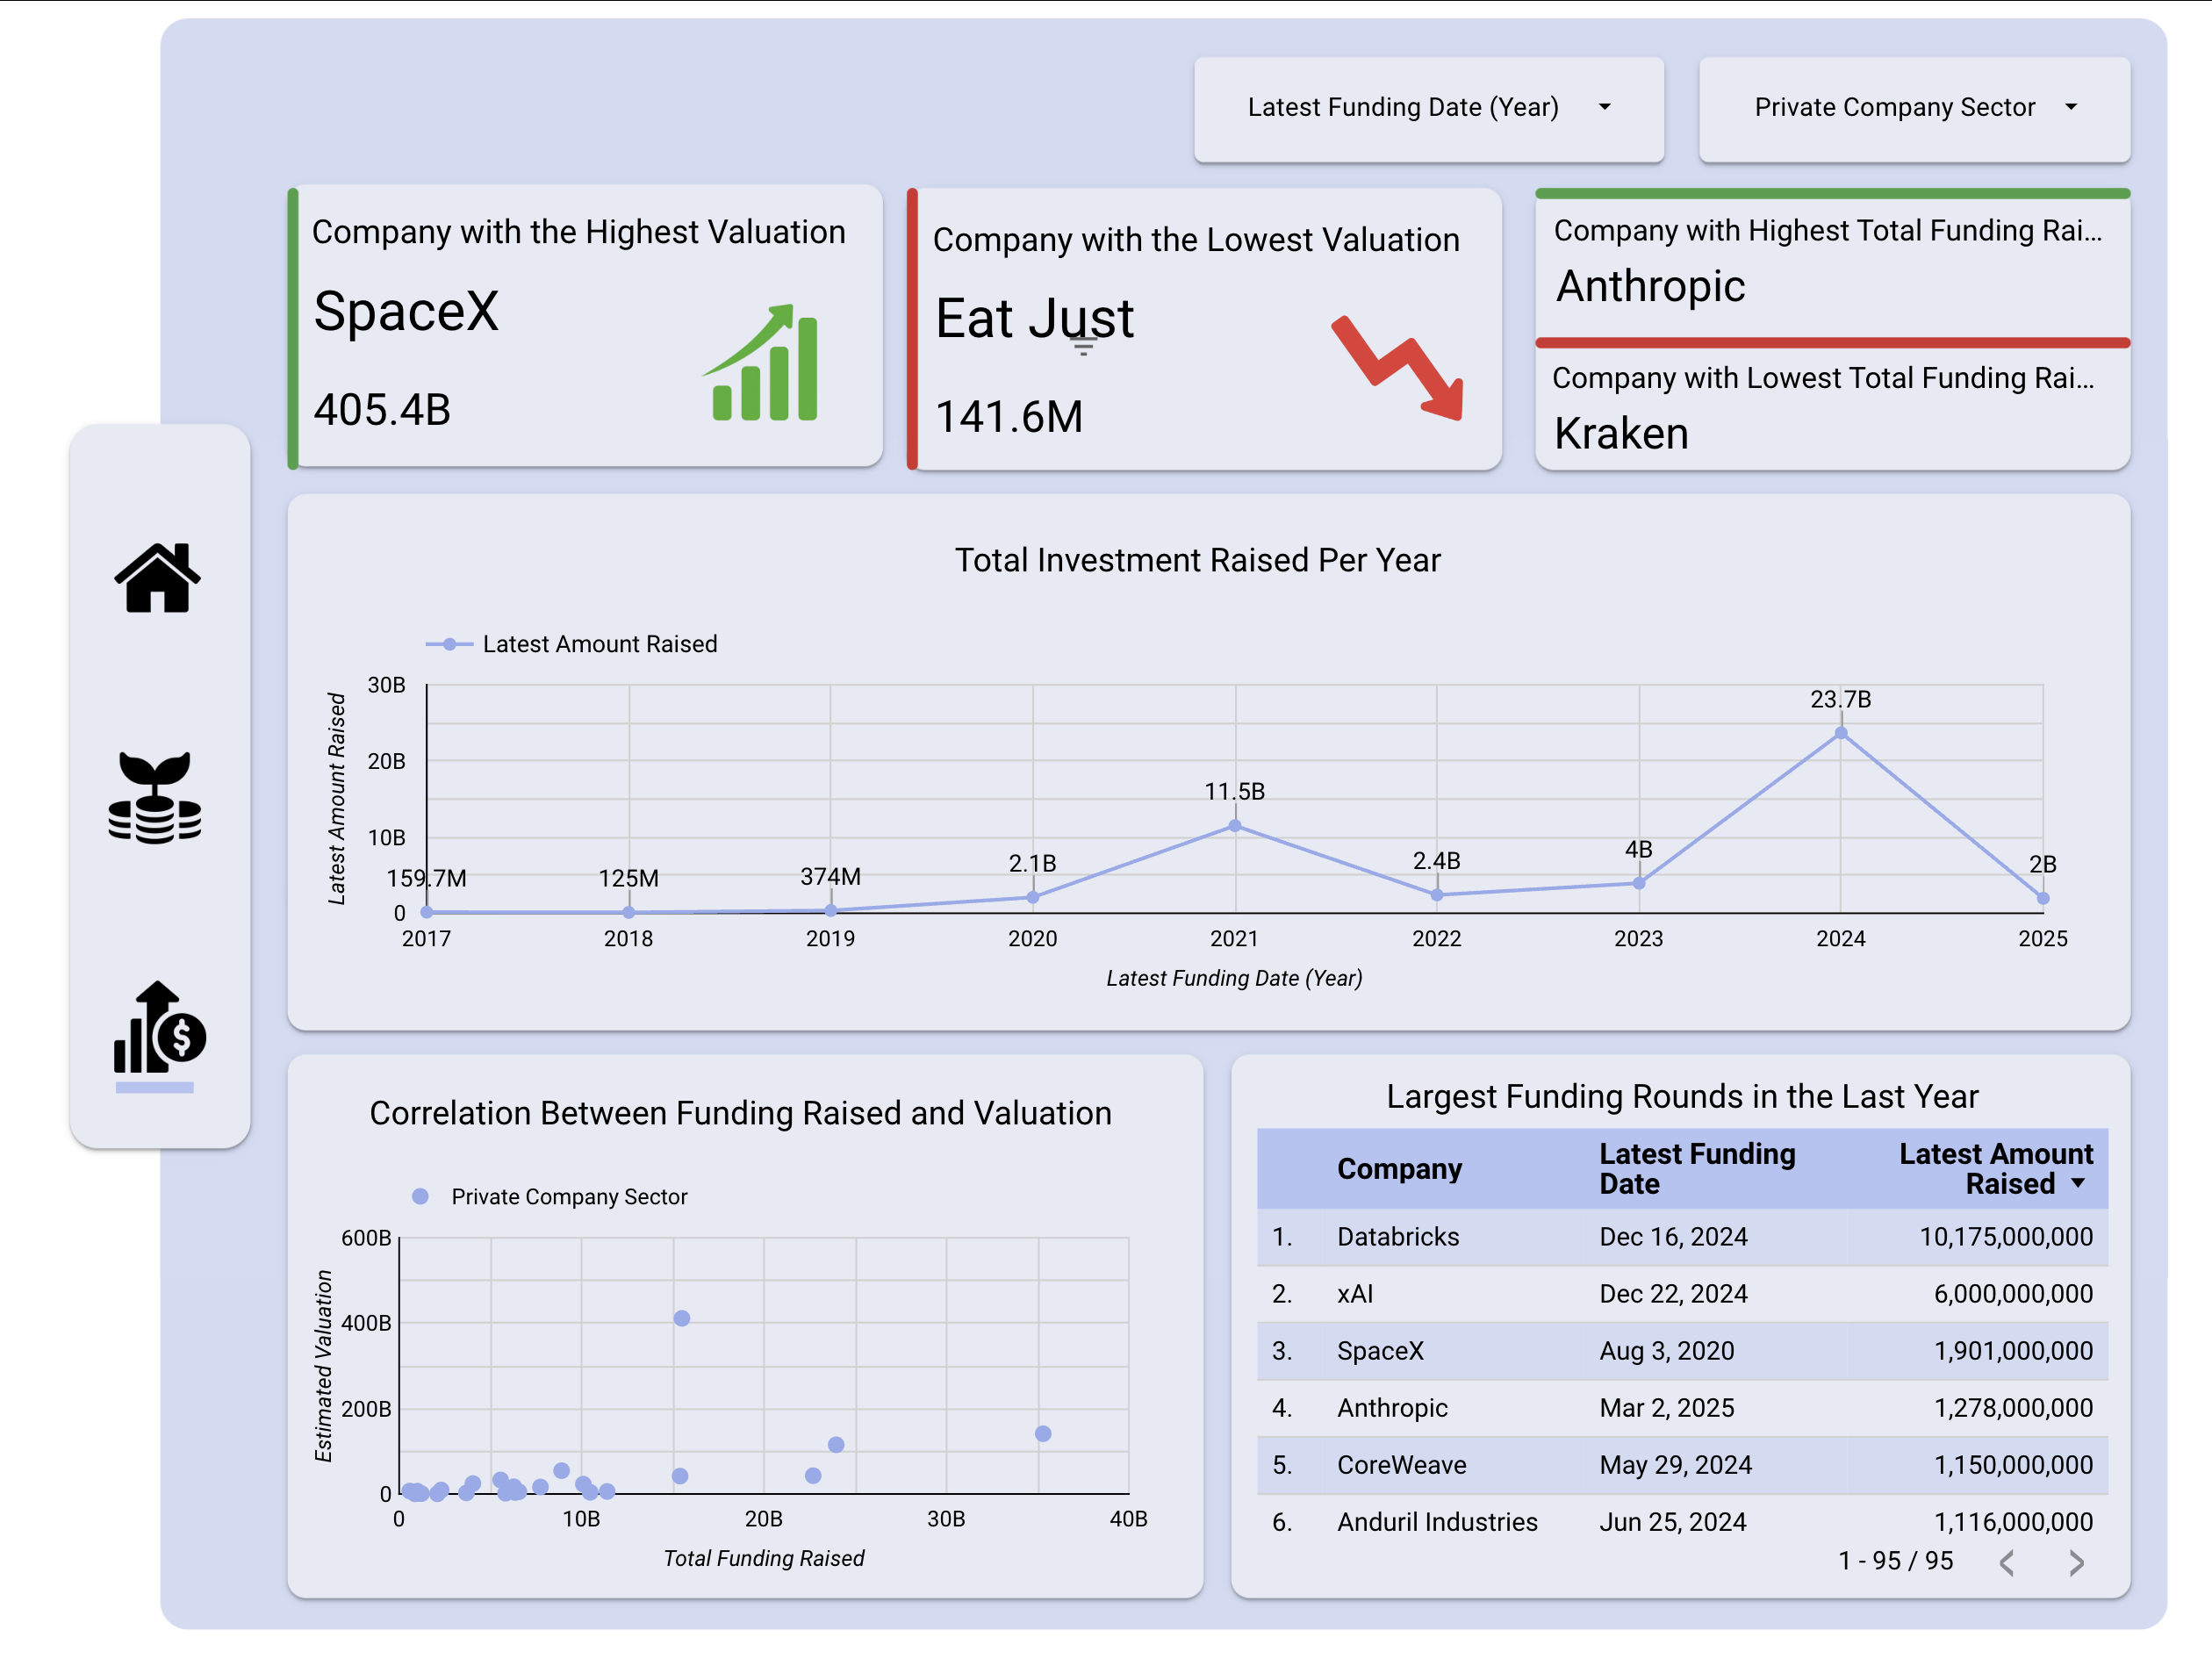

What the dashboard file says about the page in this screenshot:
{"tool":"powerbi","page":{"name":"Page 3","canvas":[1280,720],"ordinal":2},"visuals":[{"type":"shape","box":[80.7,17.1,1182.5,687.2],"z":0},{"type":"shape","box":[33,205.4,95.4,362],"z":1000},{"type":"shape","box":[150.4,105.2,339.9,137],"z":2000},{"type":"shape","box":[529.5,105.2,339.9,137],"z":3000},{"type":"shape","box":[890.6,105.7,354,137.2],"z":4000},{"type":"shape","box":[985.3,27.4,259.3,64.5],"z":5000},{"type":"shape","box":[734.1,28.8,236,63.1],"z":6000},{"type":"shape","box":[150.9,260.7,1093.7,201.7],"z":7000},{"type":"shape","box":[699.8,472,544.8,219.6],"z":8000},{"type":"shape","box":[150.4,472,539.3,220.1],"z":9000},{"type":"shape","box":[150.4,105.2,12.2,137],"z":10000},{"type":"shape","box":[529.5,105.2,12.2,137],"z":11000},{"type":"lineChart","title":"Total Investment Raised Per Year","fields":{"Category":["cleaned_private_companies.Latest Funding Date.Variation.Date Hierarchy.Year"],"Y":["Sum(cleaned_private_companies.Latest Amount Raised)"]},"box":[163.3,271.7,1069,185.2],"z":12000},{"type":"tableEx","title":"Largest Funding Rounds in the Last Year","fields":{"Values":["cleaned_private_companies.Company","cleaned_private_companies.Latest Funding Date","cleaned_private_companies.Latest Amount Raised"]},"box":[699.8,483,535.2,203.1],"z":13000},{"type":"scatterChart","title":"Correlation Between FUnding Raised and Valuation","fields":{"X":["cleaned_private_companies.Total Funding Raised"],"Y":["cleaned_private_companies.Estimated Valuation"]},"box":[163.3,484.4,516,196.2],"z":14000},{"type":"card","title":"Company with the Highest Valuation","fields":{"Values":["cleaned_private_companies.HighestValuation"]},"box":[172.9,138.6,107,42.5],"z":15000},{"type":"card","title":"Company with the Lowest Valuation","fields":{"Values":["cleaned_private_companies.LowestValuation"]},"box":[550.3,138.6,111.1,53.5],"z":16000},{"type":"card","title":"Sector with Highest 52-Week Growth","fields":{"Values":["cleaned_private_companies.AmountHighestValuation"]},"box":[164.7,188,123.5,50.8],"z":17000},{"type":"card","title":"Sector with Highest 52-Week Growth","fields":{"Values":["cleaned_private_companies.AmountLowestValuation"]},"box":[542,197.6,109.8,38.4],"z":18000},{"type":"card","title":"Company with the Highest Valuation","fields":{"Values":["cleaned_private_companies.HighestTotalFunding"]},"box":[890.6,138.6,133.1,35.7],"z":19000},{"type":"card","title":"Company with the Lowest Valuation","fields":{"Values":["cleaned_private_companies.LowestTotalFunding"]},"box":[890.6,205.8,105.7,30.2],"z":20000},{"type":"slicer","fields":{"Values":["cleaned_private_companies.Private Company Sector"]},"box":[986.6,28.8,258,64.5],"z":21000},{"type":"slicer","fields":{"Values":["cleaned_private_companies.Latest Funding Date.Variation.Date Hierarchy.Year"]},"box":[734.1,27.4,233.3,64.5],"z":22000},{"type":"image","box":[385.6,156.4,105.7,86.4],"z":23000},{"type":"image","box":[782.2,171.5,71.4,67.2],"z":24000},{"type":"shape","box":[890.6,171.5,354,17.8],"z":25000},{"type":"shape","box":[898.8,97.4,337.6,23.3],"z":26000},{"type":"image","box":[48,251.1,65.9,67.2],"z":27000},{"type":"image","box":[39.8,371.9,74.1,60.4],"z":28000},{"type":"image","box":[48,472,65.9,64.5],"z":29000},{"type":"shape","box":[54.9,529.7,43.9,12.3],"z":30000},{"type":"textbox","box":[172.9,109.8,318.4,38.4],"z":31000},{"type":"textbox","box":[550.3,109.8,319.7,38.4],"z":32000},{"type":"textbox","box":[898.8,109.8,337.6,38.4],"z":33000},{"type":"textbox","box":[898.8,181.1,336.2,32.9],"z":34000}]}

Visuals, with their boxes on the page's 1280x720 design canvas (x1, y1, x2, y2). These are canvas units, not pixel positions in the 2212x1659 screenshot, which may show the page scaled, cropped or inside an application window:
shape: <region>81, 17, 1263, 704</region>
shape: <region>33, 205, 128, 567</region>
shape: <region>150, 105, 490, 242</region>
shape: <region>530, 105, 869, 242</region>
shape: <region>891, 106, 1245, 243</region>
shape: <region>985, 27, 1245, 92</region>
shape: <region>734, 29, 970, 92</region>
shape: <region>151, 261, 1245, 462</region>
shape: <region>700, 472, 1245, 692</region>
shape: <region>150, 472, 690, 692</region>
shape: <region>150, 105, 163, 242</region>
shape: <region>530, 105, 542, 242</region>
"Total Investment Raised Per Year" lineChart: <region>163, 272, 1232, 457</region>
"Largest Funding Rounds in the Last Year" tableEx: <region>700, 483, 1235, 686</region>
"Correlation Between FUnding Raised and Valuation" scatterChart: <region>163, 484, 679, 681</region>
"Company with the Highest Valuation" card: <region>173, 139, 280, 181</region>
"Company with the Lowest Valuation" card: <region>550, 139, 661, 192</region>
"Sector with Highest 52-Week Growth" card: <region>165, 188, 288, 239</region>
"Sector with Highest 52-Week Growth" card: <region>542, 198, 652, 236</region>
"Company with the Highest Valuation" card: <region>891, 139, 1024, 174</region>
"Company with the Lowest Valuation" card: <region>891, 206, 996, 236</region>
slicer - cleaned_private_companies.Private Company Sector: <region>987, 29, 1245, 93</region>
slicer - cleaned_private_companies.Latest Funding Date.Variation.Date Hierarchy.Year: <region>734, 27, 967, 92</region>
image: <region>386, 156, 491, 243</region>
image: <region>782, 172, 854, 239</region>
shape: <region>891, 172, 1245, 189</region>
shape: <region>899, 97, 1236, 121</region>
image: <region>48, 251, 114, 318</region>
image: <region>40, 372, 114, 432</region>
image: <region>48, 472, 114, 536</region>
shape: <region>55, 530, 99, 542</region>
textbox: <region>173, 110, 491, 148</region>
textbox: <region>550, 110, 870, 148</region>
textbox: <region>899, 110, 1236, 148</region>
textbox: <region>899, 181, 1235, 214</region>
